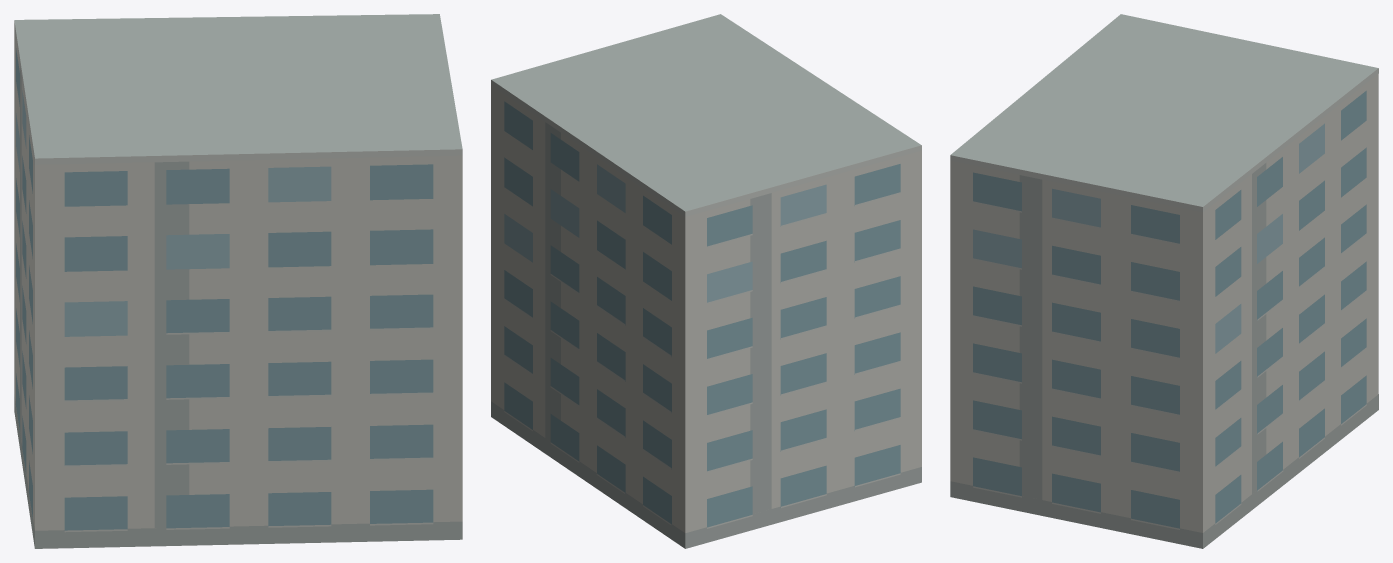
File: survey-upis-32967376.glb
3 views of the same model, side by side, from view 1: azimuth 30°, elevation 25°; view 2: azimuth 150°, elevation 25°; view 3: azimuth 270°, elevation 25° (orthographic). The views are drawn at different scales.
Parts seen in each view (by area): view 1: survey-upis-32967376.tmp; view 2: survey-upis-32967376.tmp; view 3: survey-upis-32967376.tmp.
Part boxes in pixels (<box>): survey-upis-32967376.tmp: <box>14,14,462,548</box>; survey-upis-32967376.tmp: <box>491,14,921,548</box>; survey-upis-32967376.tmp: <box>950,14,1378,548</box>.
Size of the model in its own units: 18.05 by 14.9 by 16.94.
